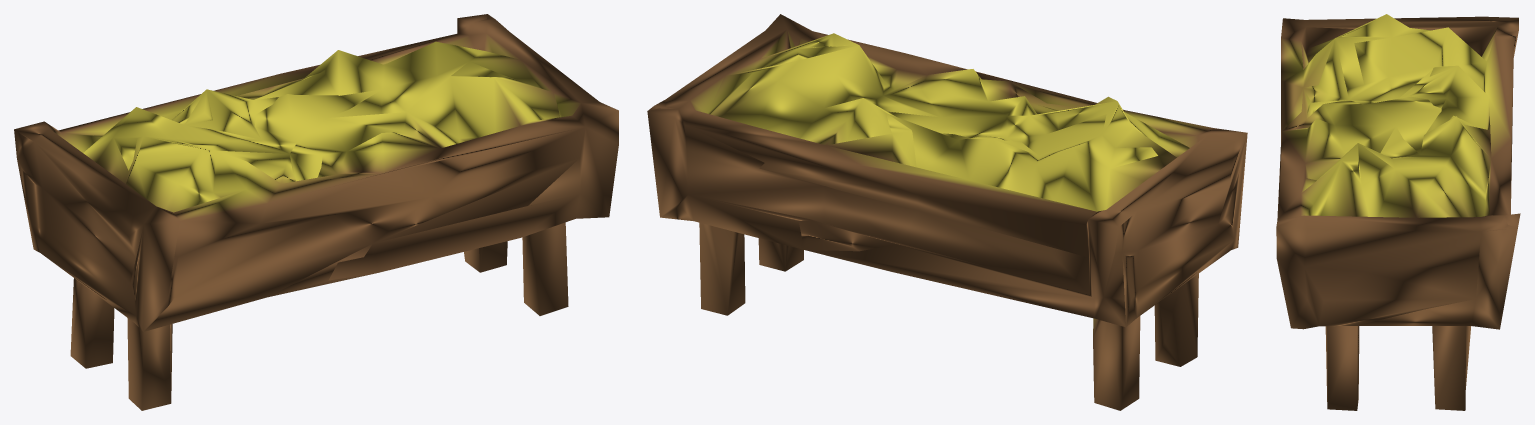
Rendered from gen3d-feeding-trough-lod1.glb.
3 views of the same model, side by side, from view 1: azimuth 30°, elevation 25°; view 2: azimuth 150°, elevation 25°; view 3: azimuth 270°, elevation 25° (orthographic). The views are drawn at different scales.
Visible parts, largest first — view 1: part_0; view 2: part_0; view 3: part_0.
Part boxes in pixels (x1=…): part_0: x1=14, y1=14, x2=618, y2=410; part_0: x1=647, y1=14, x2=1247, y2=410; part_0: x1=1276, y1=14, x2=1520, y2=410.
Bounding box in the file's own units: 2 × 0.9913 × 0.974.
